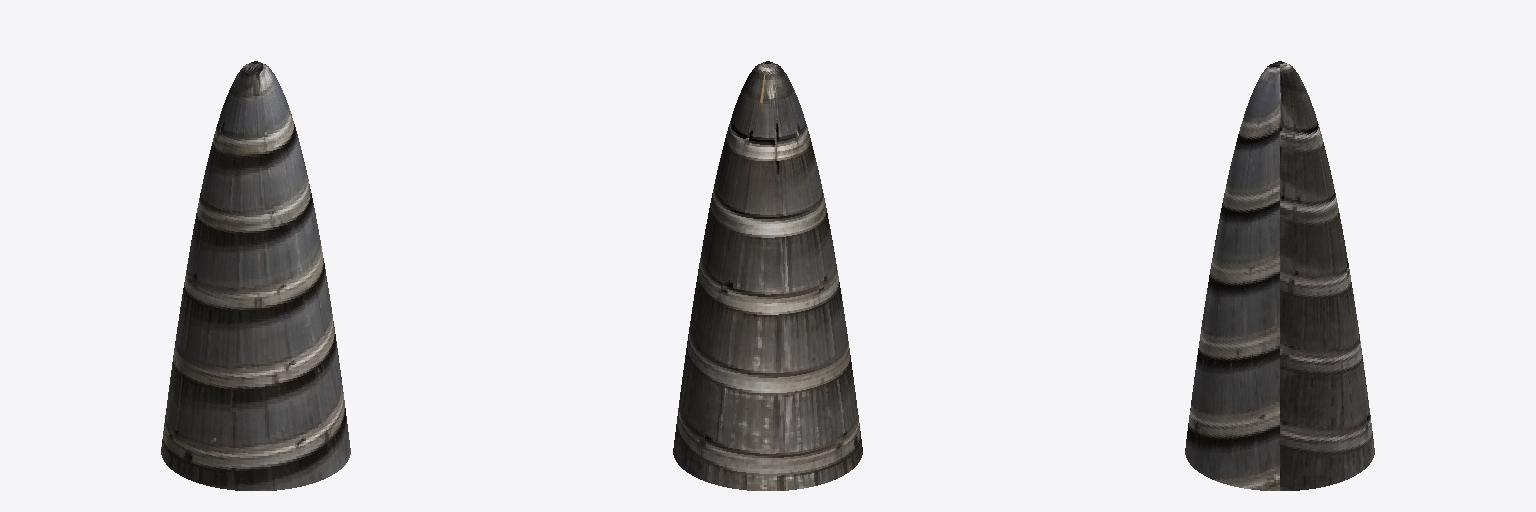
3 views of the same model, side by side, from view 1: azimuth 30°, elevation 25°; view 2: azimuth 150°, elevation 25°; view 3: azimuth 270°, elevation 25° (orthographic).
Bounding box in the file's own units: 1.32 × 3 × 1.32.
Materials: 1 (1 with a texture image).